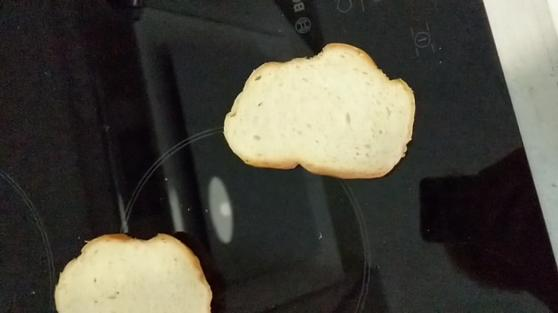white_bread: (224, 41, 420, 179), (53, 223, 230, 311)
